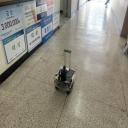cart: (54, 66, 76, 95)
